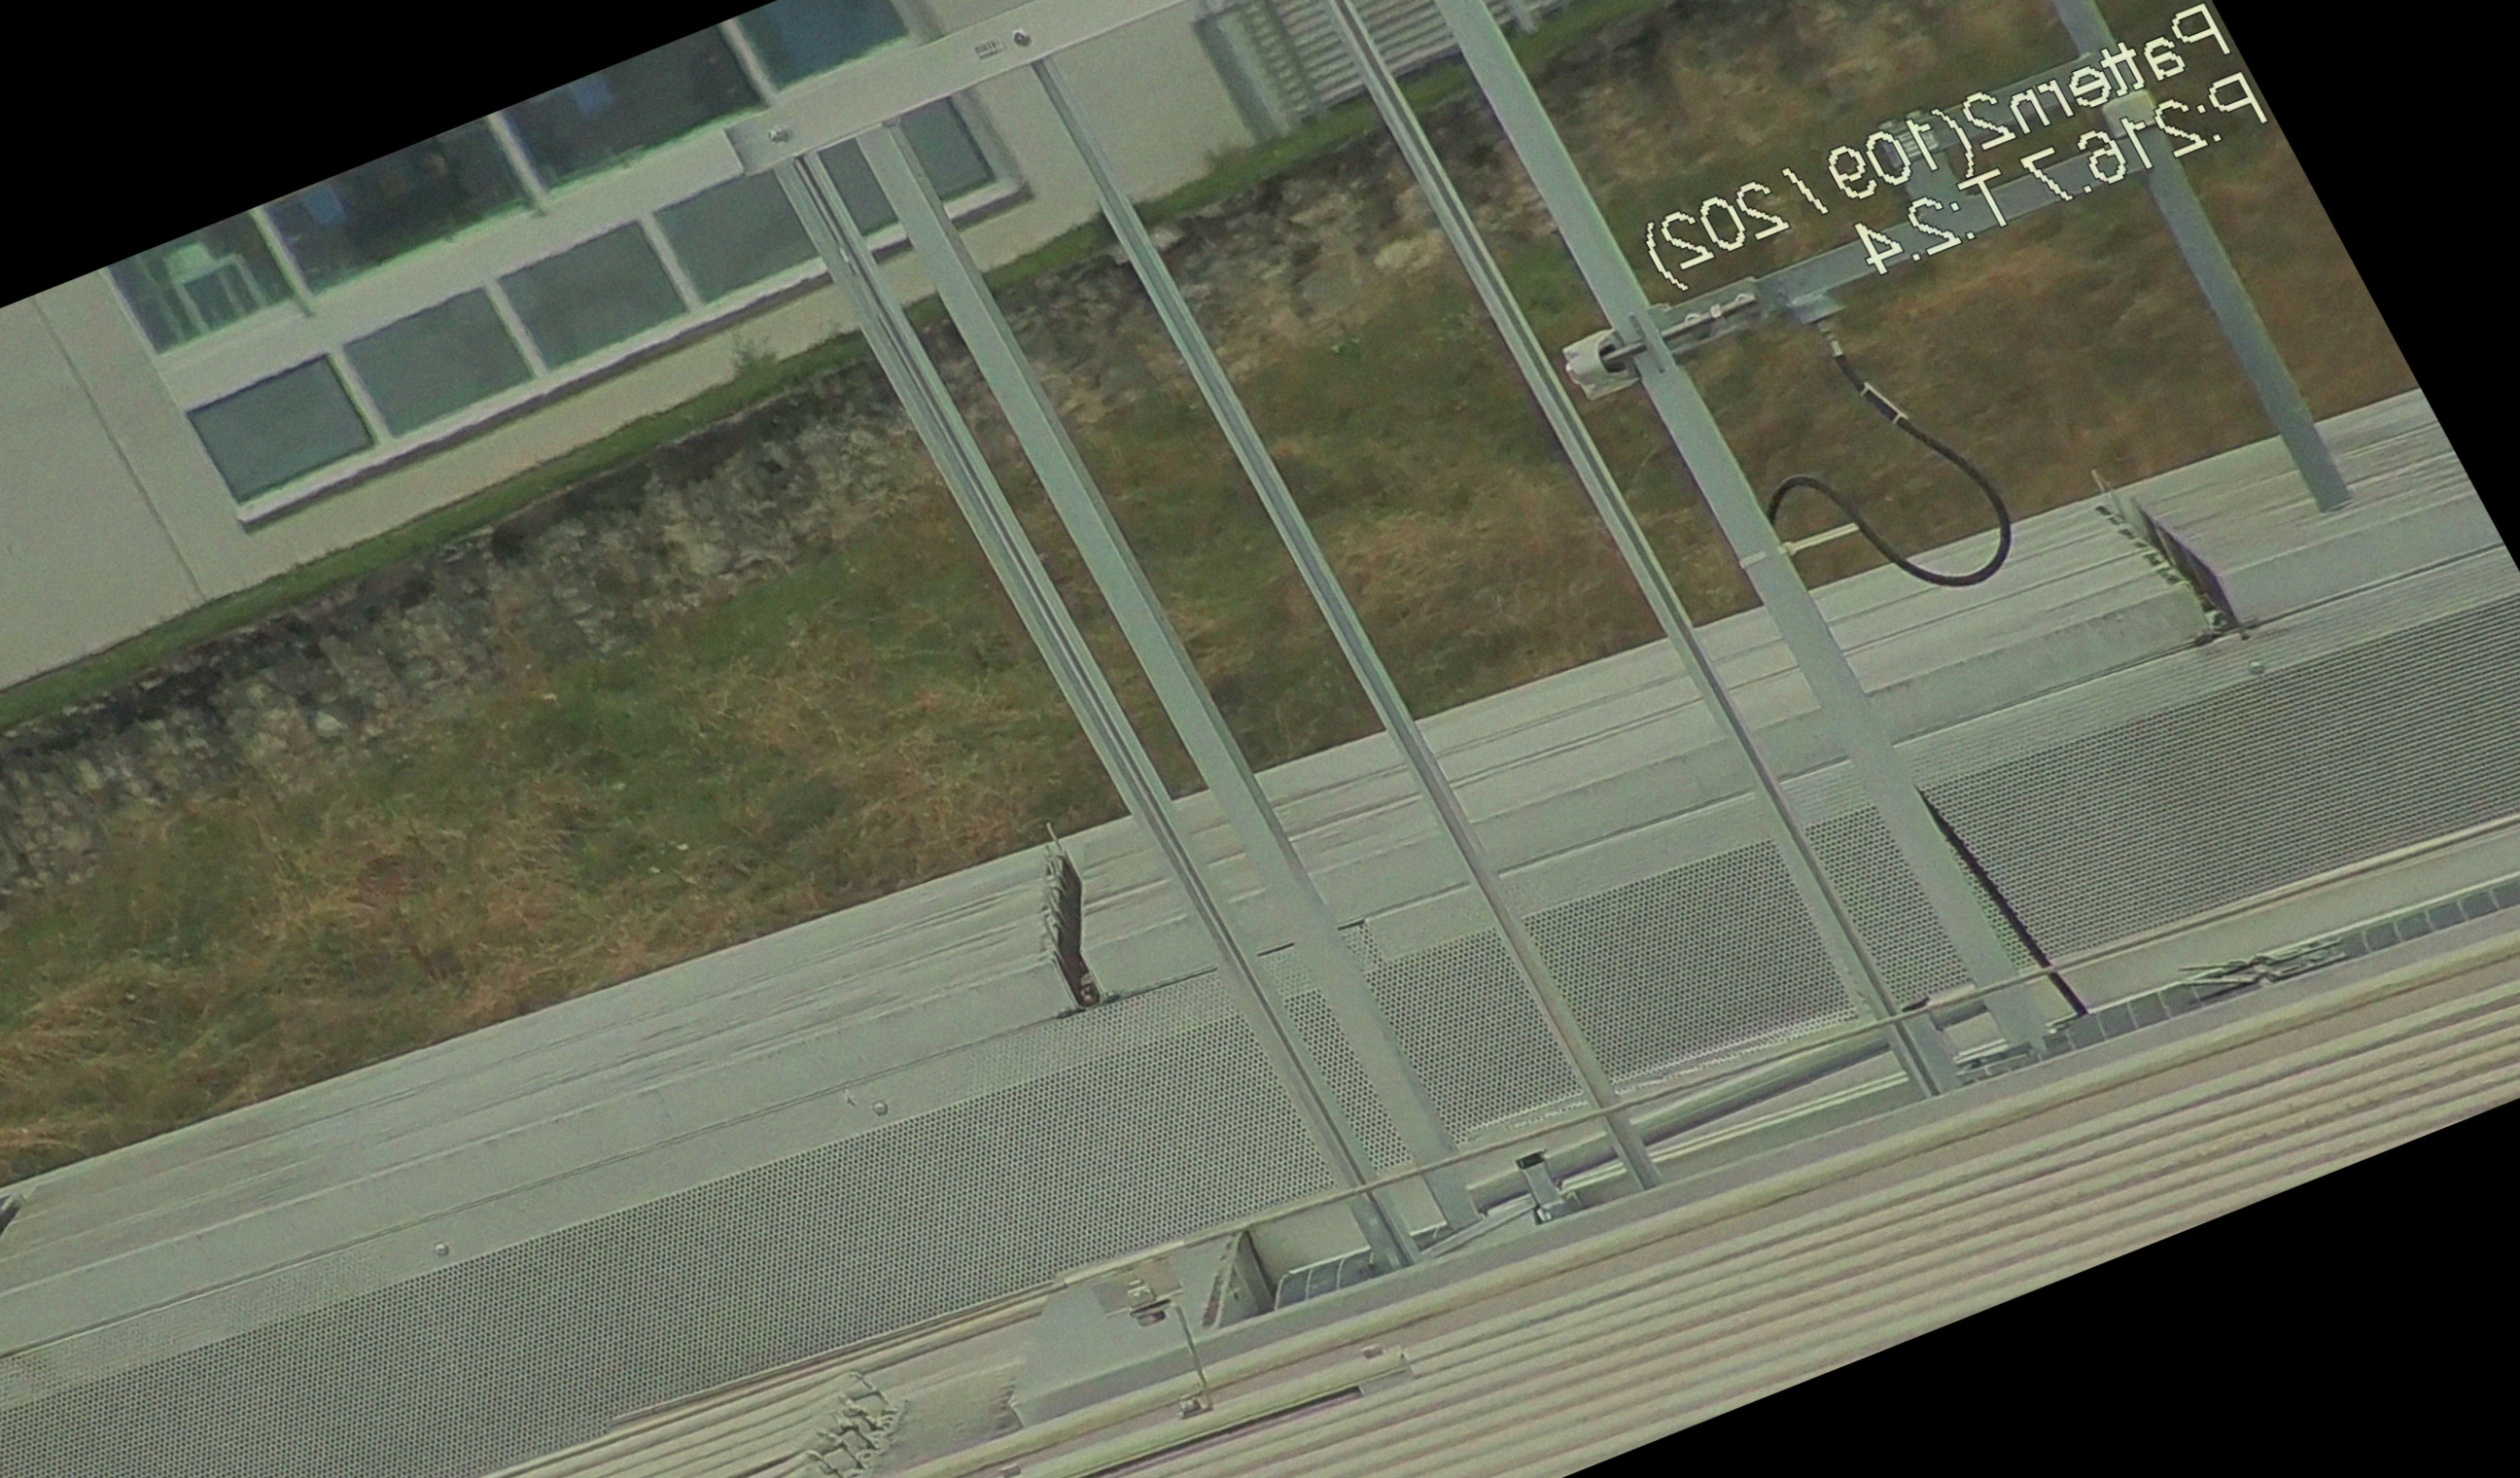Other: (969, 818, 1173, 1035)
